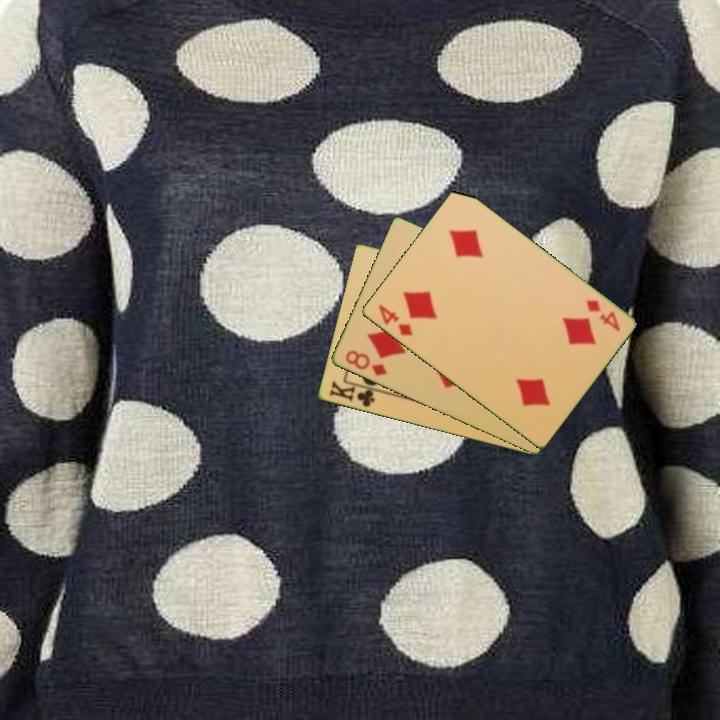4d: (582, 296, 623, 335), (375, 300, 415, 339)
8d: (341, 347, 390, 379)
Kc: (325, 378, 382, 410)
